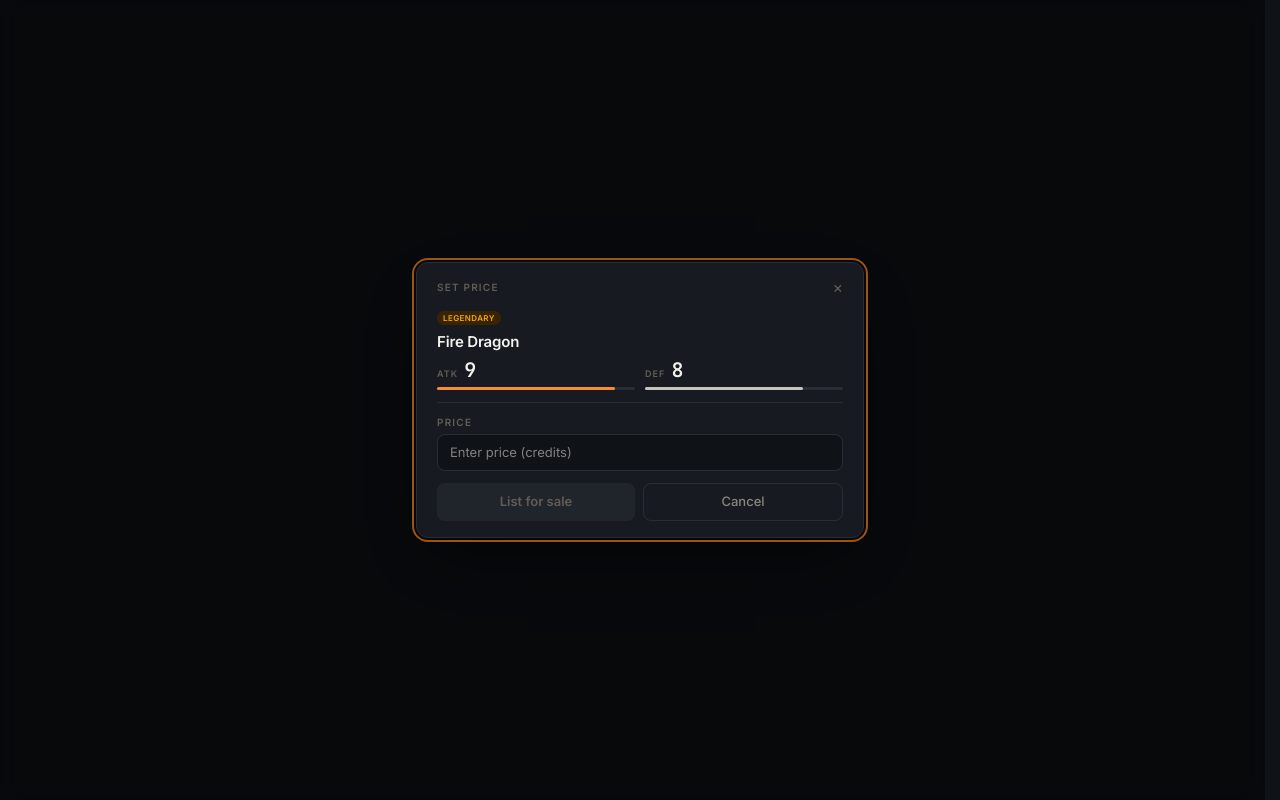
it: SetPriceModal › shows inline success before closing after setting a price
Type "42" into the number field labelled "Price". click: (640, 452)
box: [437, 434, 843, 471]
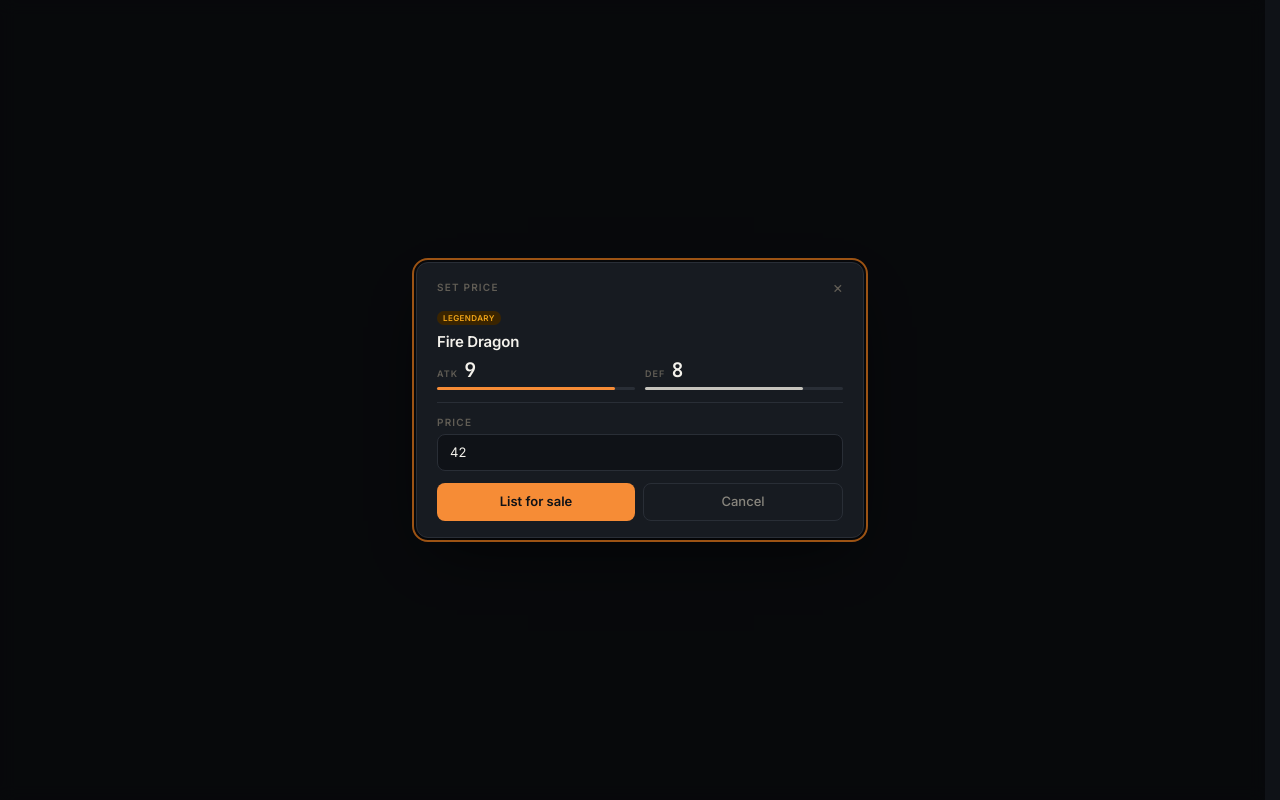
Click the button "List for sale". click: (536, 502)
box: [437, 483, 635, 521]
Wait 700 ms
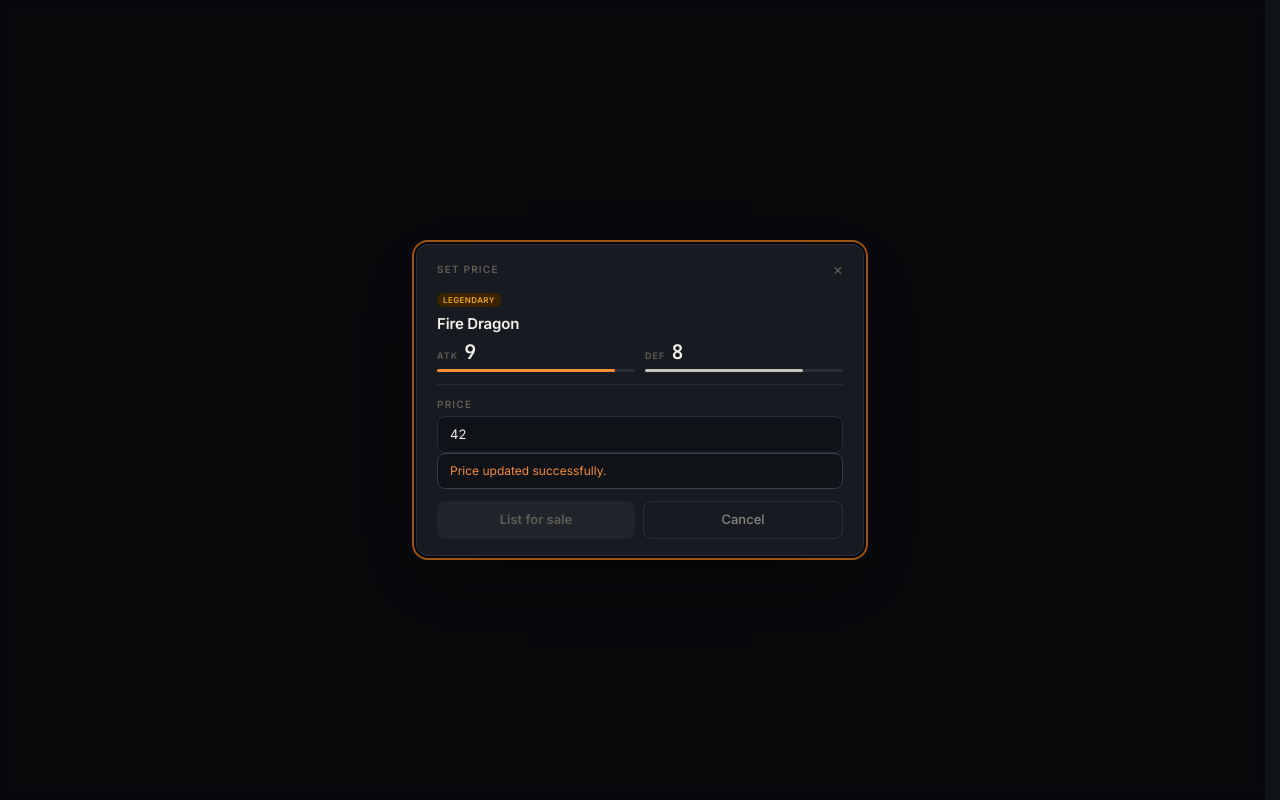
Expected: the message reads "Price updated successfully.", [450, 463, 606, 478]
